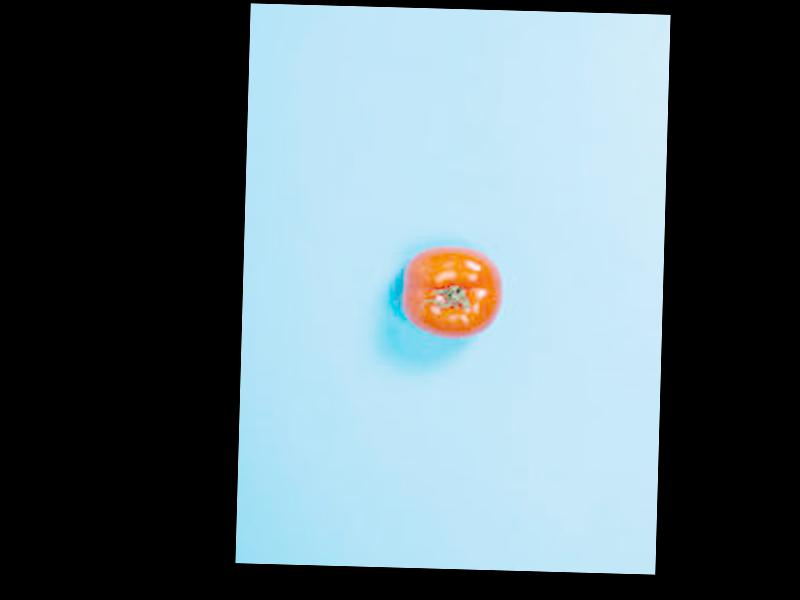Tomato: (401, 246, 505, 342)
